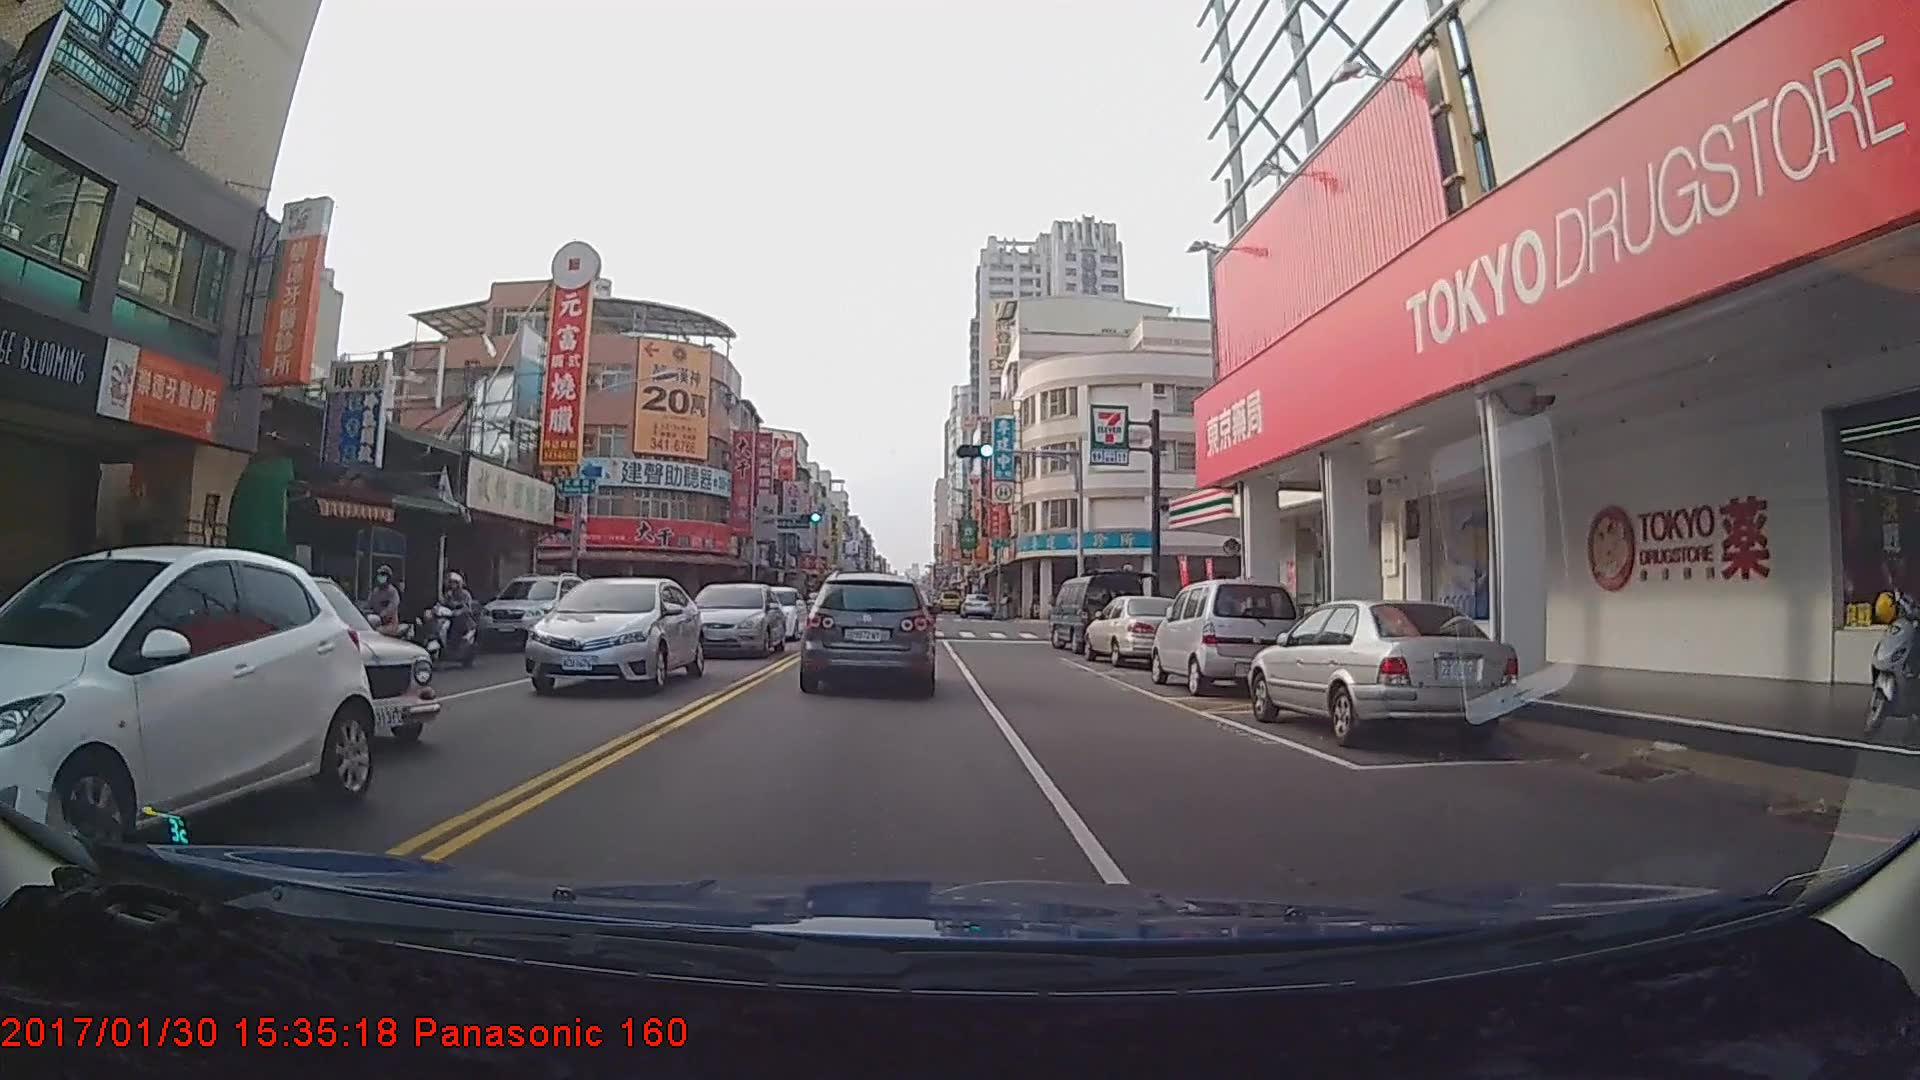rider: (422, 571, 478, 663)
vehicle: (0, 543, 374, 867), (102, 573, 434, 749), (1248, 597, 1521, 749), (513, 579, 692, 702), (1151, 582, 1304, 699), (804, 571, 933, 694), (477, 572, 589, 652), (1084, 594, 1194, 666), (683, 580, 783, 659), (1049, 574, 1144, 654), (739, 585, 803, 643), (957, 591, 993, 617)
